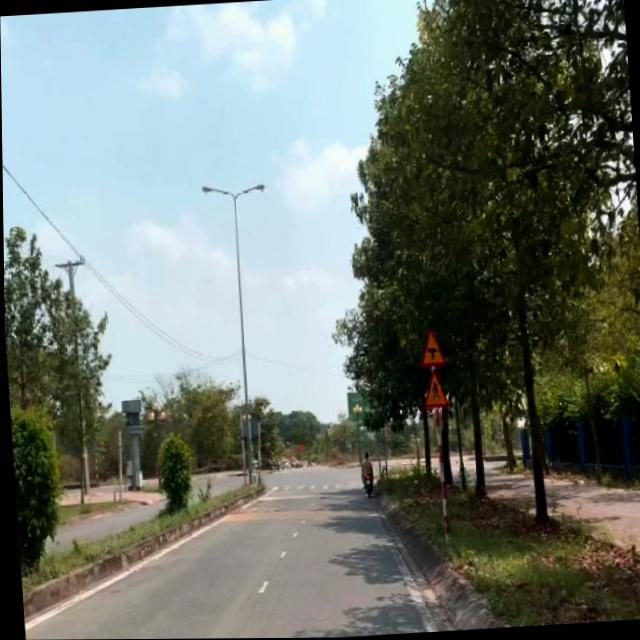Duong giao nhau cung cap: (415, 326, 446, 370)
Nguoi di bo cat ngang: (419, 367, 450, 411)
